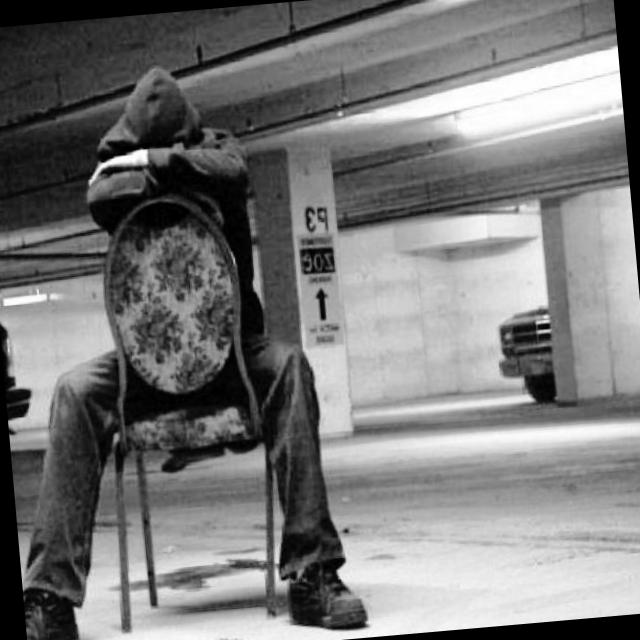Person: (0, 43, 376, 640)
